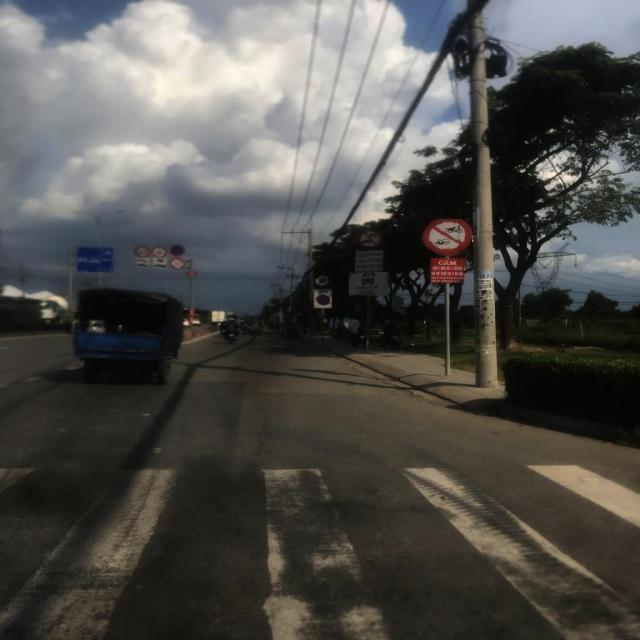cam_cac_loai_xe_3_banh: (422, 219, 472, 256)
cam_dung_xe_va_do_xe: (315, 294, 330, 306), (171, 244, 186, 256)
cam_o_to_tai_va_xe_khach: (357, 229, 383, 249)
cam_xe_2_banh_va_xe_3_banh_co_dong_co: (170, 257, 185, 269)
khac: (349, 272, 389, 296), (355, 250, 383, 272), (153, 258, 167, 264), (152, 263, 166, 269), (135, 263, 149, 268), (136, 258, 148, 263)
lan_duong_cho_tung_xe_theo_vach_ke_duong: (78, 248, 114, 272)
toc_do_toi_da_50: (314, 274, 332, 288)
toc_do_toi_da_60: (151, 245, 168, 257)
toc_do_toi_da_80: (134, 245, 150, 257)
